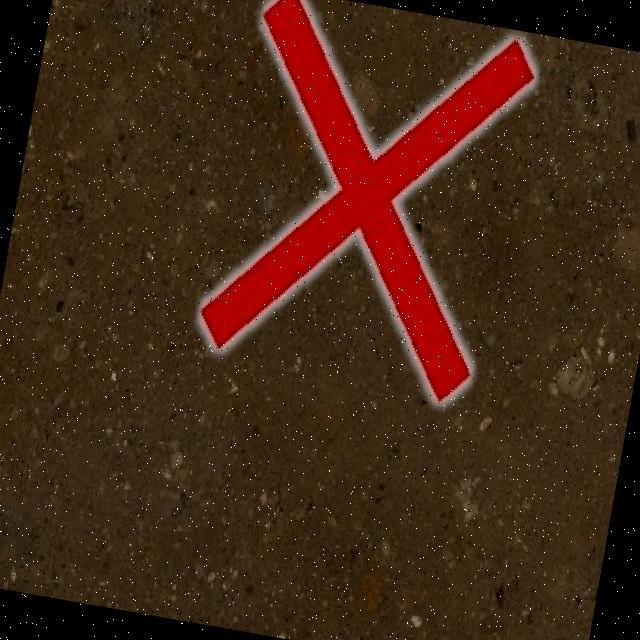x_marker: (193, 0, 540, 406)
